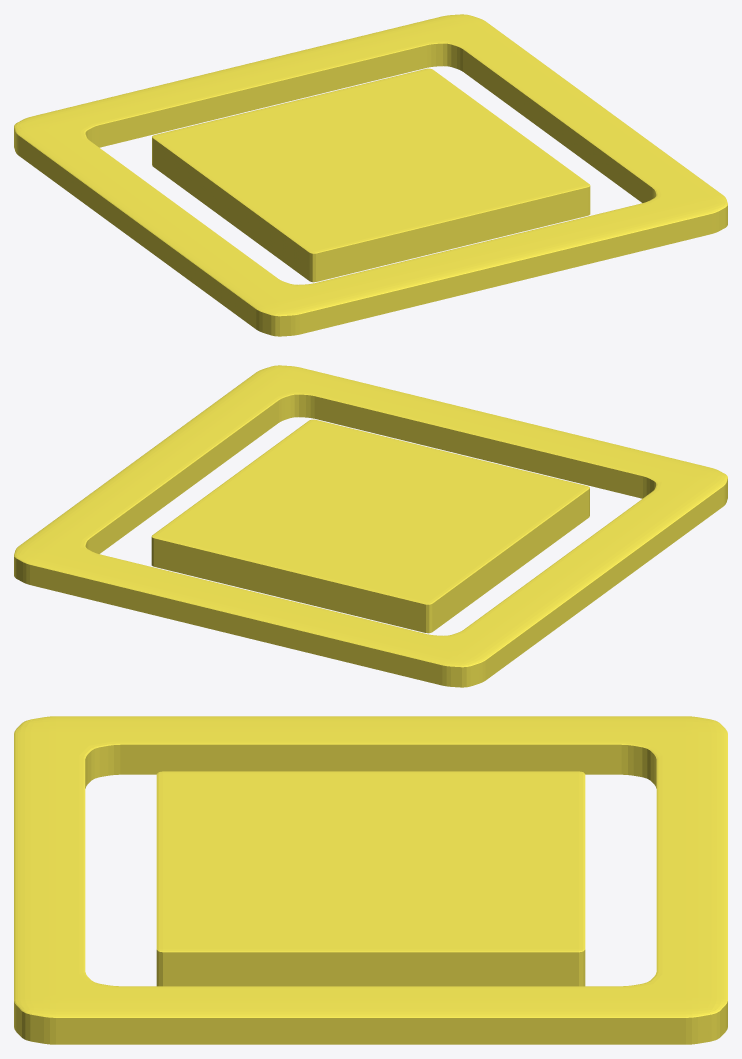
File: checkpoint#001.fbx
3 renders of one model, top to bottom at view 1: azimuth 30°, elevation 25°; view 2: azimuth 150°, elevation 25°; view 3: azimuth 270°, elevation 25°, orthographic. The views are drawn at different scales.
Parts seen in each view (by area): view 1: 立方体.001; view 2: 立方体.001; view 3: 立方体.001.
Boxes of the visible parts, box(x1,y1,x2,y2) form: 立方体.001: box(14, 14, 727, 336); 立方体.001: box(14, 365, 727, 687); 立方体.001: box(14, 716, 727, 1044).
Bounding box in the file's own units: 100 × 6 × 100.
